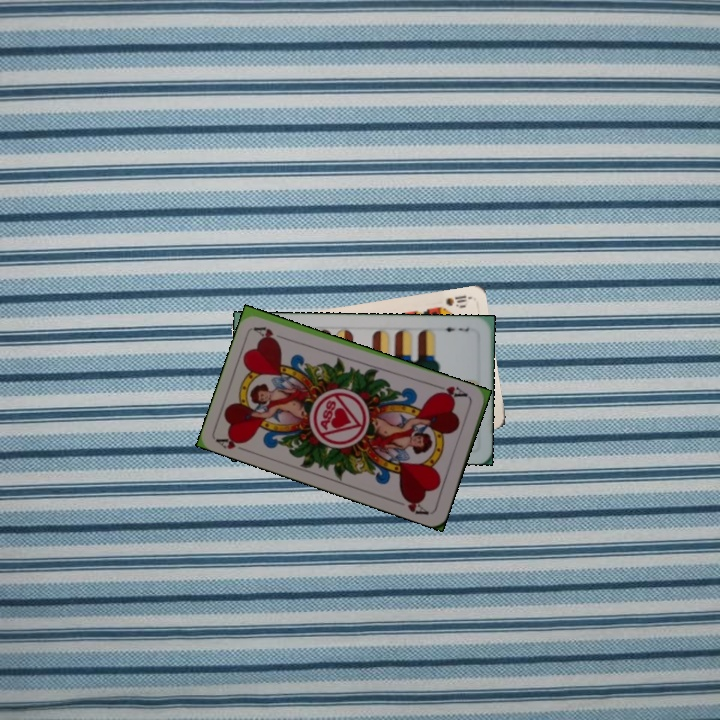E7: (437, 323, 472, 334)
HA: (213, 431, 253, 454), (432, 381, 472, 402)
S10: (442, 291, 472, 310)
